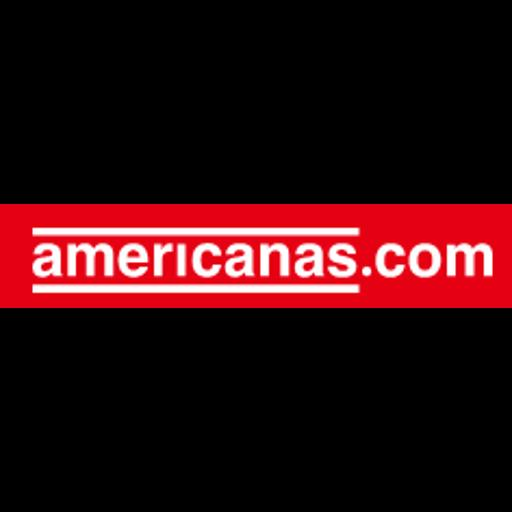Americanas-com S: (0, 204, 512, 308)
